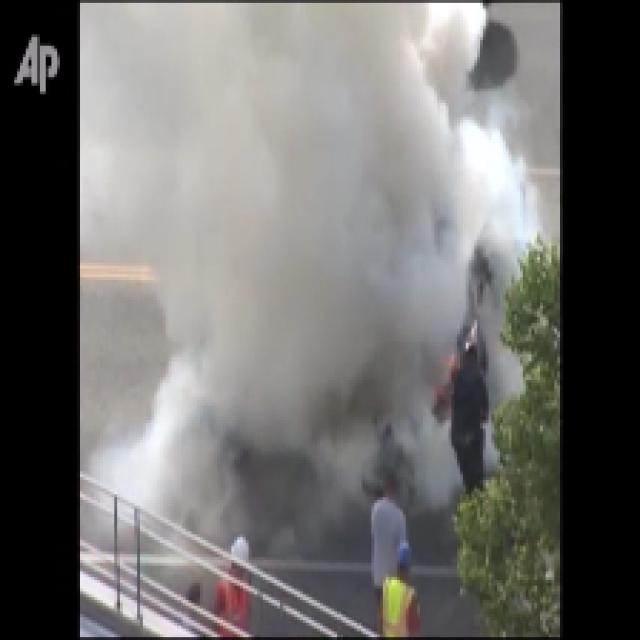smoke: (101, 14, 493, 511)
